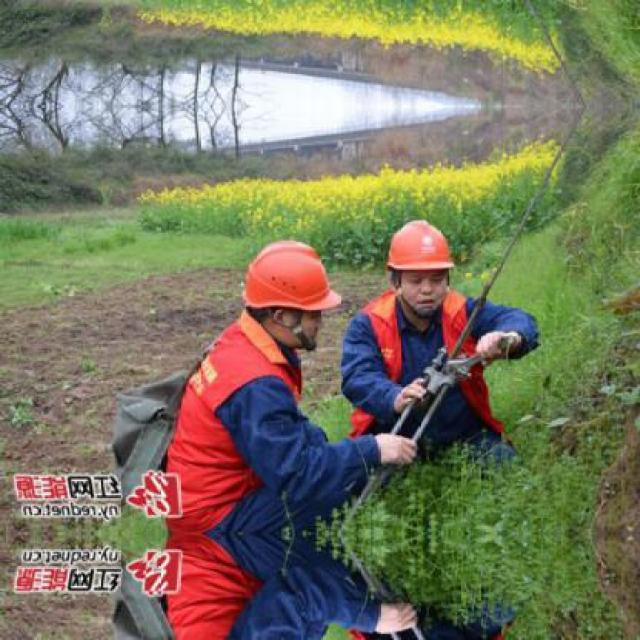Reflective-Jacket: (334, 288, 512, 441), (151, 327, 314, 463)
Safety-Helmet: (228, 233, 346, 324), (377, 211, 465, 284)
